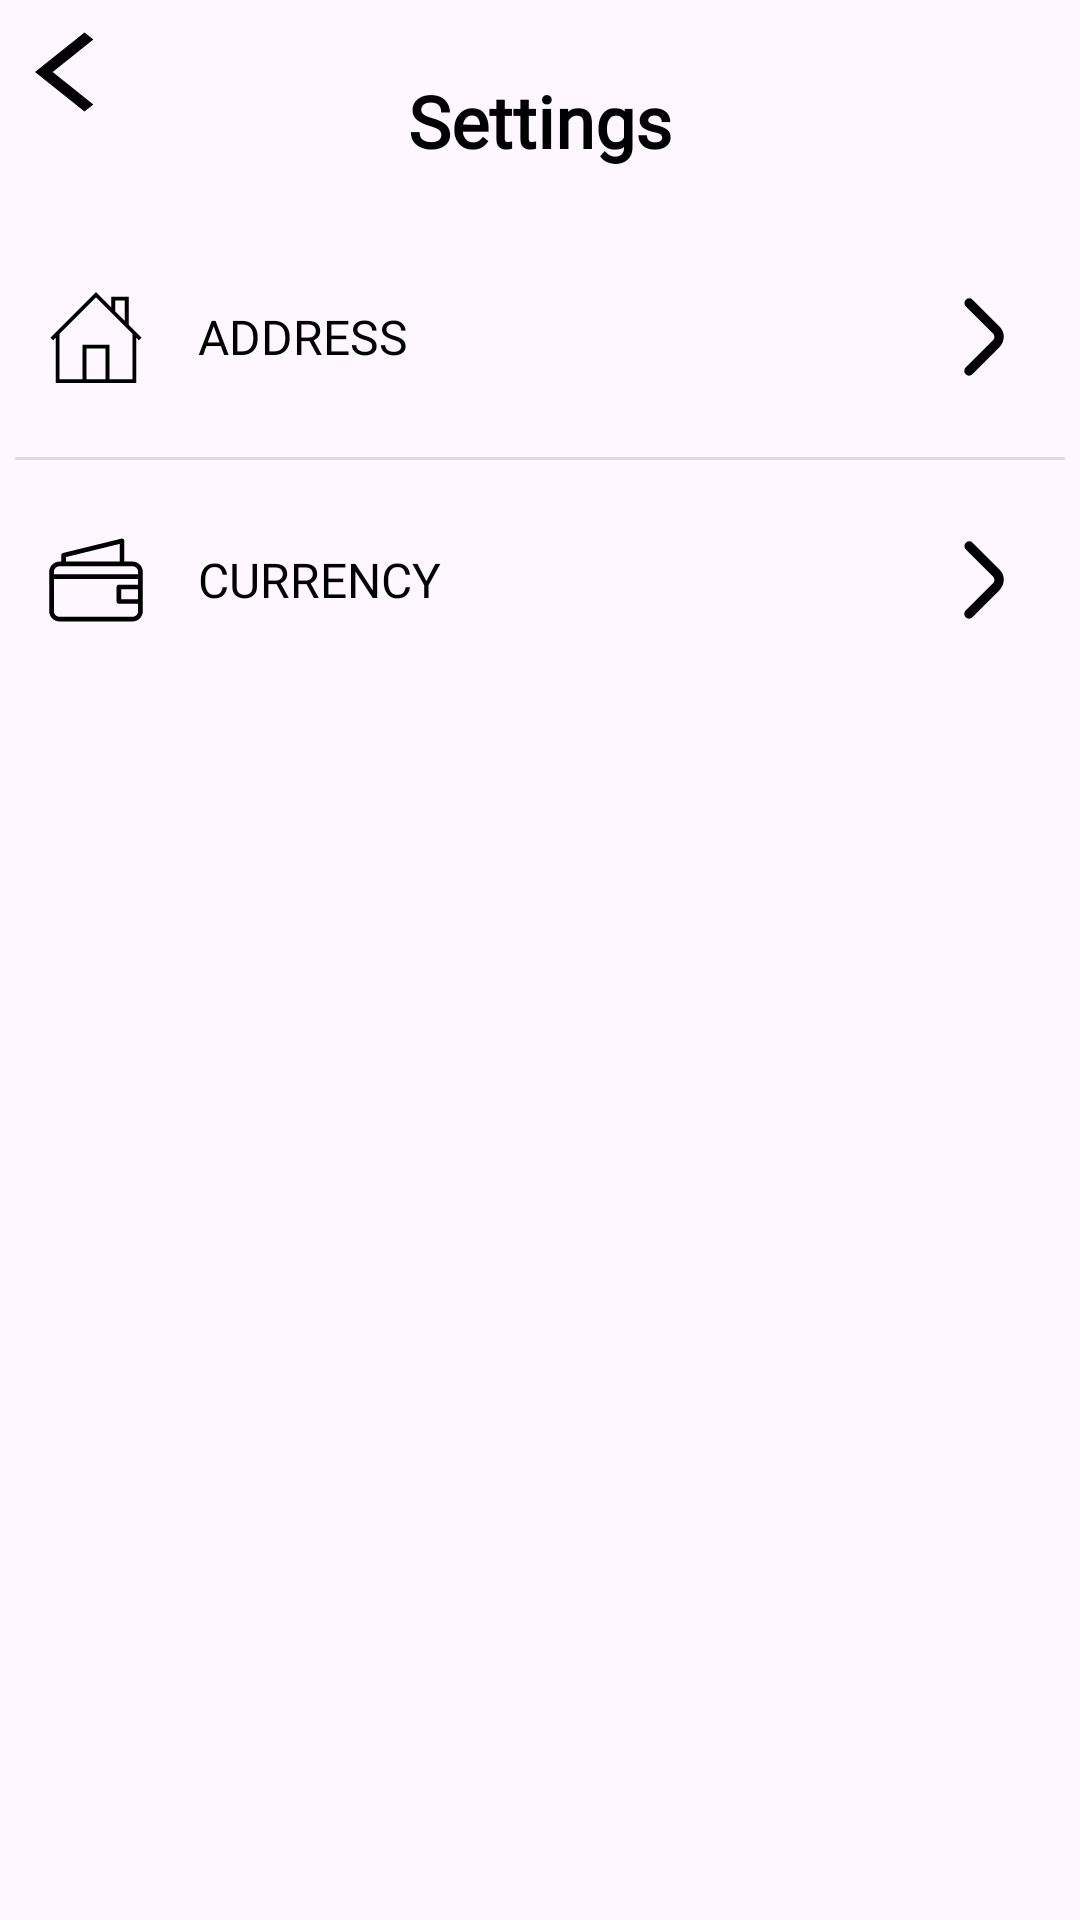

Icons on this 1080*1920 Android screen, each with the point to tap as (x=x, y=y):
back: (x=64, y=72)
next: (x=984, y=337), (x=984, y=580)
wallet: (x=96, y=580)
